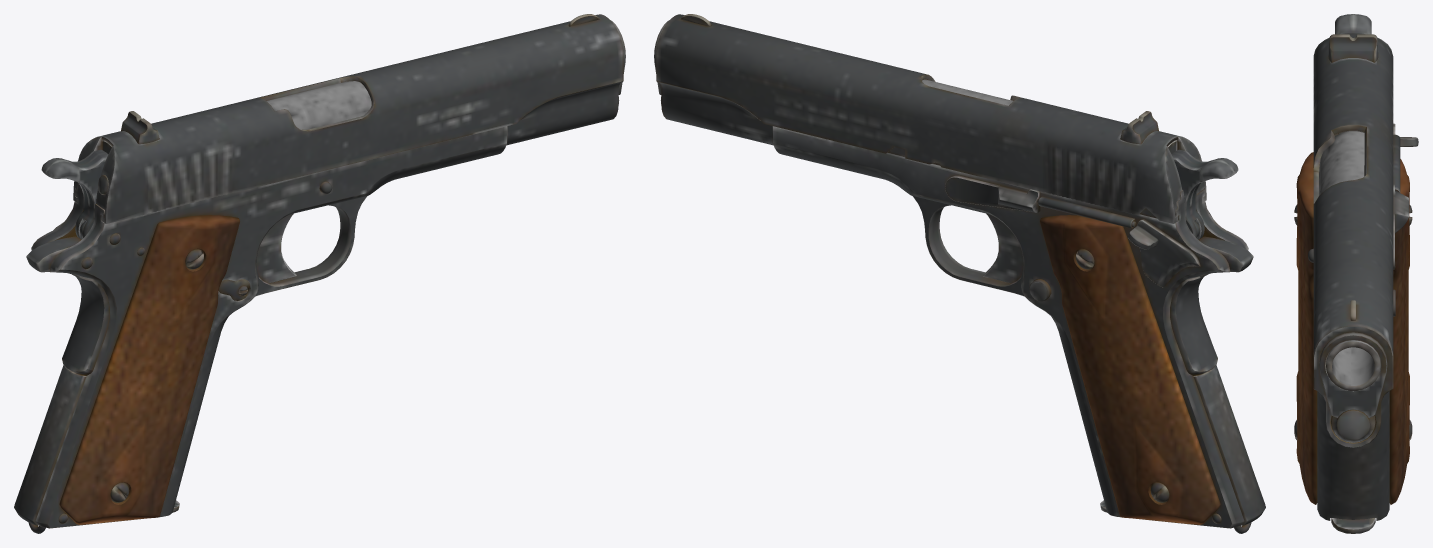
The model's file is colt_1911.b62488c898.glb.
3 renders of one model, left to right at view 1: azimuth 30°, elevation 25°; view 2: azimuth 150°, elevation 25°; view 3: azimuth 270°, elevation 25°, orthographic. The views are drawn at different scales.
Visible parts, largest first — view 1: base, slide, hammer; view 2: base, slide, hammer; view 3: slide, base, hammer, mag.
Boxes of the visible parts, bbox=[...] form: base: bbox=[14, 81, 507, 533]; slide: bbox=[73, 14, 625, 223]; hammer: bbox=[41, 149, 108, 239]; base: bbox=[772, 79, 1265, 533]; slide: bbox=[654, 14, 1206, 223]; hammer: bbox=[1171, 149, 1238, 239]; slide: bbox=[1313, 32, 1393, 447]; base: bbox=[1294, 123, 1418, 520]; hammer: bbox=[1335, 14, 1371, 34]; mag: bbox=[1331, 518, 1375, 533].
Bounding box in the file's own units: 0.216 × 0.1377 × 0.0325.
Materials: 1 (1 with a texture image).
